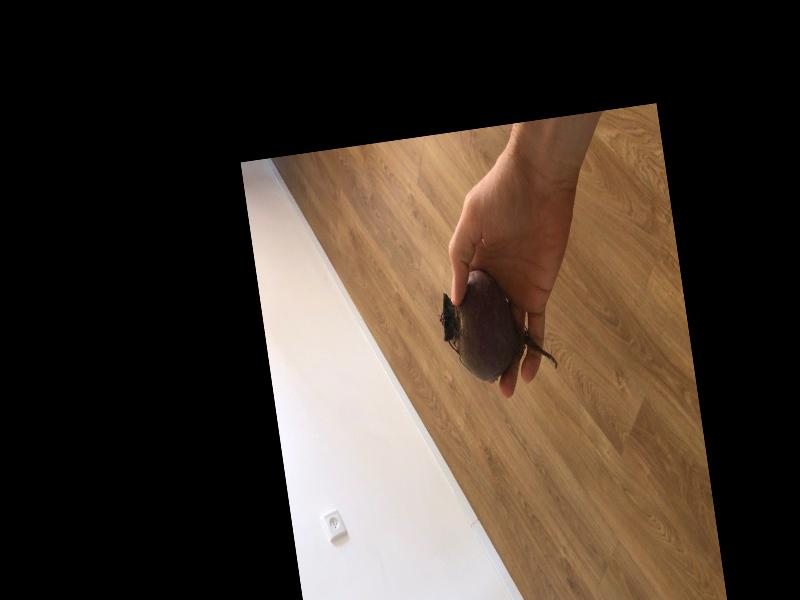Beet: (436, 261, 559, 388)
